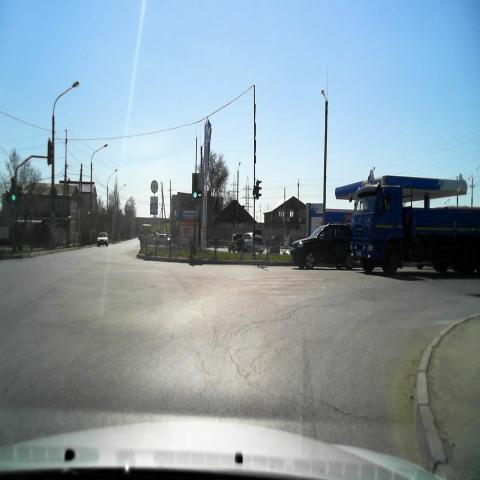3_11: (150, 180, 159, 194)
